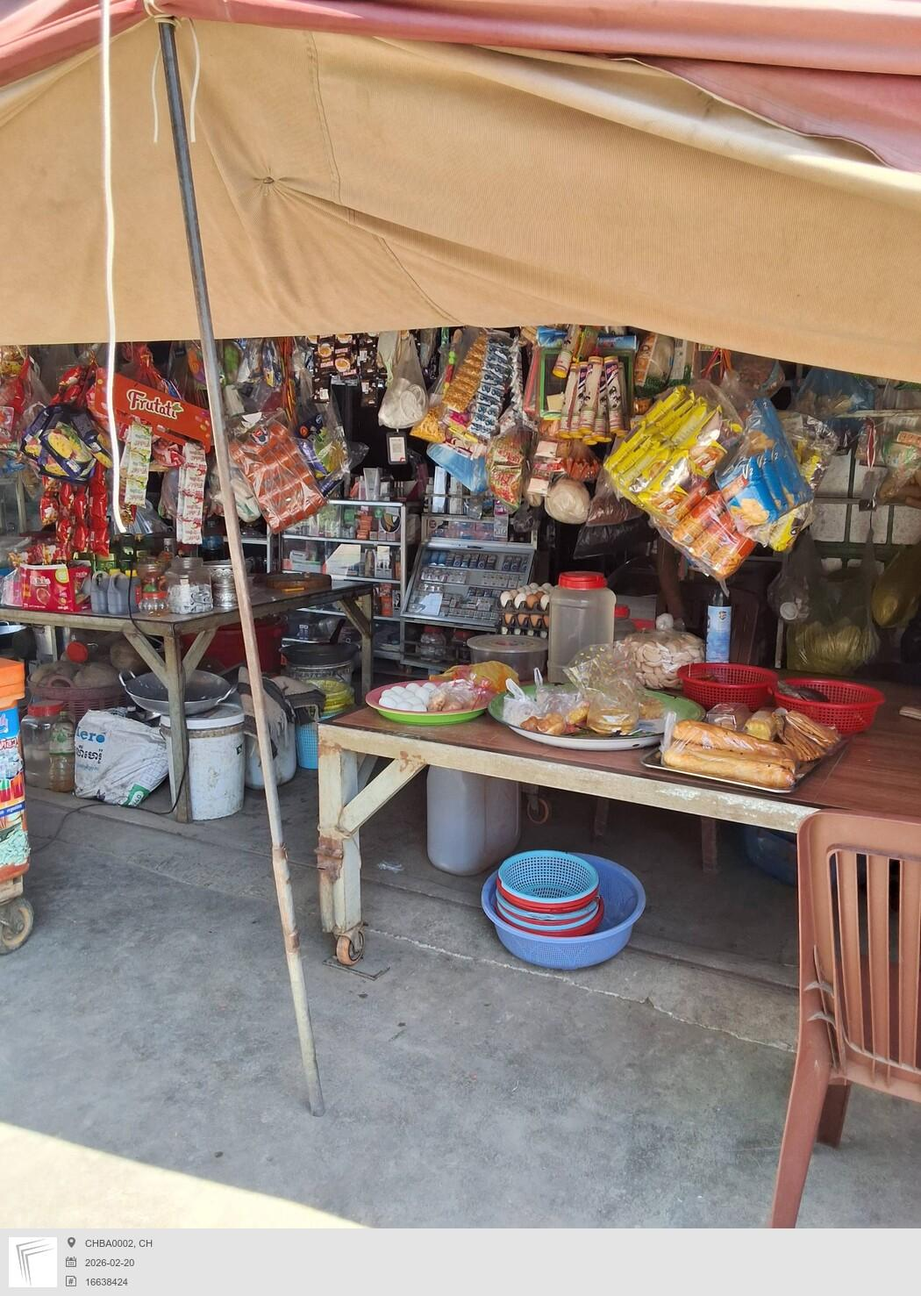cigarette_pack: (766, 813, 919, 1222), (511, 556, 522, 572), (486, 555, 498, 569), (440, 569, 451, 584), (507, 573, 518, 588), (502, 555, 512, 571), (520, 557, 530, 573), (448, 569, 458, 585), (450, 594, 462, 607), (458, 570, 469, 584), (481, 571, 491, 586), (499, 572, 508, 588), (438, 551, 448, 565), (453, 553, 463, 567), (443, 593, 453, 607), (422, 550, 431, 565), (462, 552, 471, 567), (491, 571, 500, 586), (430, 551, 439, 565), (469, 554, 478, 568), (447, 552, 455, 567), (428, 567, 436, 582), (518, 573, 526, 588), (478, 554, 486, 568), (435, 567, 442, 582), (422, 567, 428, 582), (484, 589, 493, 597), (469, 586, 475, 597), (493, 590, 501, 598), (477, 588, 483, 597)
